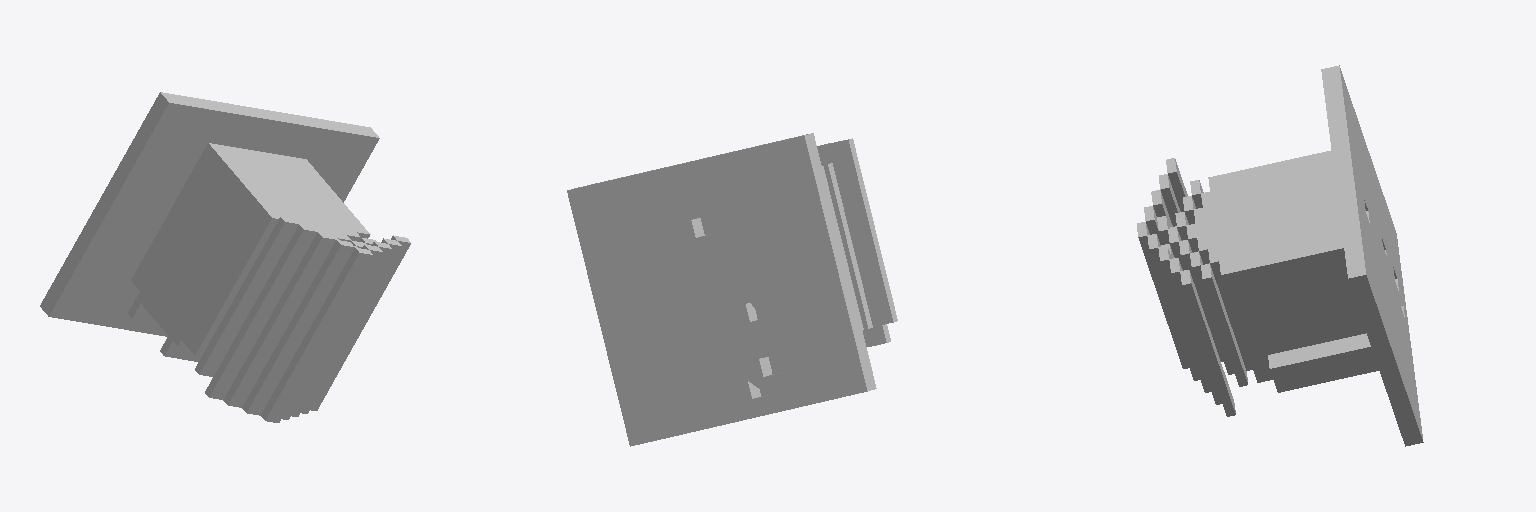
Rendered from kura.obj.
3 views of the same model, side by side, from view 1: azimuth 30°, elevation 25°; view 2: azimuth 150°, elevation 25°; view 3: azimuth 270°, elevation 25° (orthographic).
Visible parts, largest first — view 1: Object.29, Object.25, Object.26; view 2: Object.29, Object.25, Object.19, Object.26; view 3: Object.25, Object.29.
Part boxes in pixels (left/top/right/bottom): Object.29: left=48, top=92, right=354, bottom=415; Object.25: left=193, top=109, right=410, bottom=422; Object.26: left=40, top=291, right=152, bottom=332; Object.29: left=694, top=133, right=897, bottom=395; Object.25: left=567, top=159, right=760, bottom=427; Object.19: left=626, top=399, right=756, bottom=446; Object.26: left=752, top=371, right=876, bottom=416; Object.25: left=1137, top=163, right=1419, bottom=434; Object.29: left=1144, top=65, right=1402, bottom=306.
Size of the model in its own units: 661 by 633 by 520.